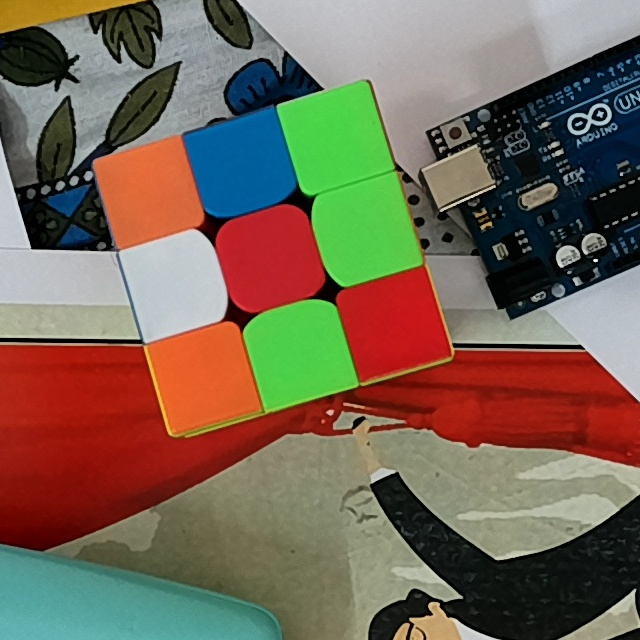tile: (356, 286, 432, 360), (166, 340, 242, 413), (300, 100, 375, 172), (138, 248, 212, 320), (332, 192, 403, 267), (263, 315, 336, 387), (232, 222, 306, 293), (205, 130, 279, 198), (114, 156, 185, 224)
